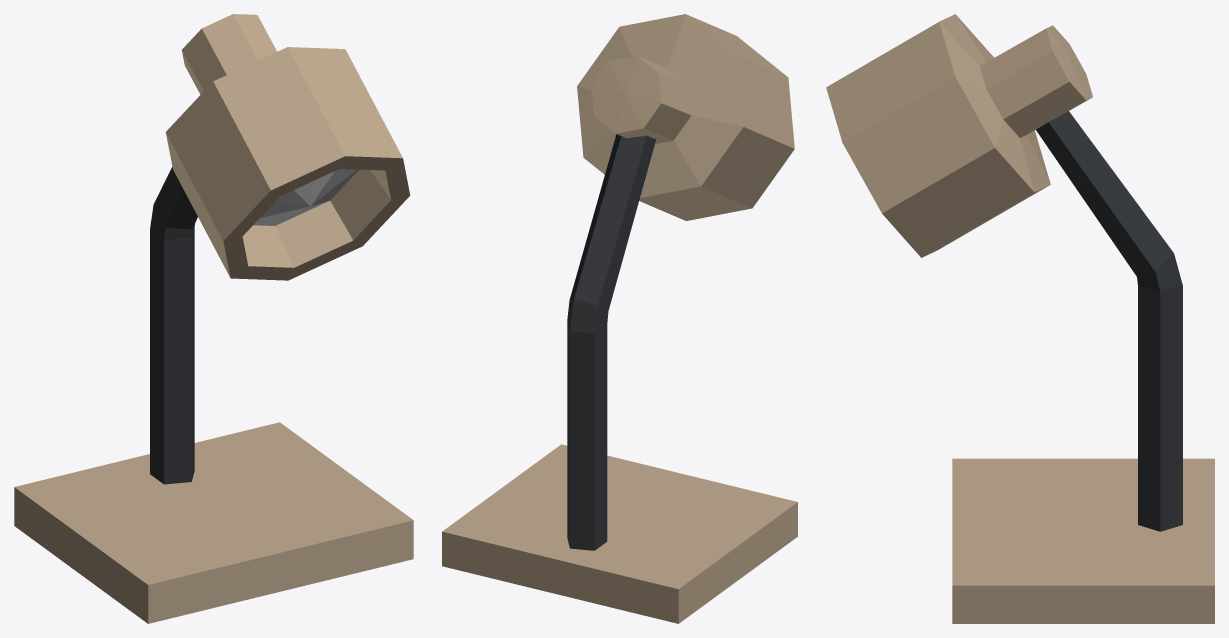
The model's file is SM_Prop_Desklamp_04.glb.
3 views of the same model, side by side, from view 1: azimuth 30°, elevation 25°; view 2: azimuth 150°, elevation 25°; view 3: azimuth 270°, elevation 25° (orthographic). The views are drawn at different scales.
Visible parts, largest first — view 1: SM_Prop_Desklamp_04; view 2: SM_Prop_Desklamp_04; view 3: SM_Prop_Desklamp_04.
Boxes of the visible parts, x1=… form: SM_Prop_Desklamp_04: x1=14, y1=14, x2=413, y2=623; SM_Prop_Desklamp_04: x1=442, y1=14, x2=797, y2=623; SM_Prop_Desklamp_04: x1=826, y1=14, x2=1214, y2=623.
Size of the model in its own units: 0.2046 by 0.4047 by 0.2647.
1 material, 1 textured.
